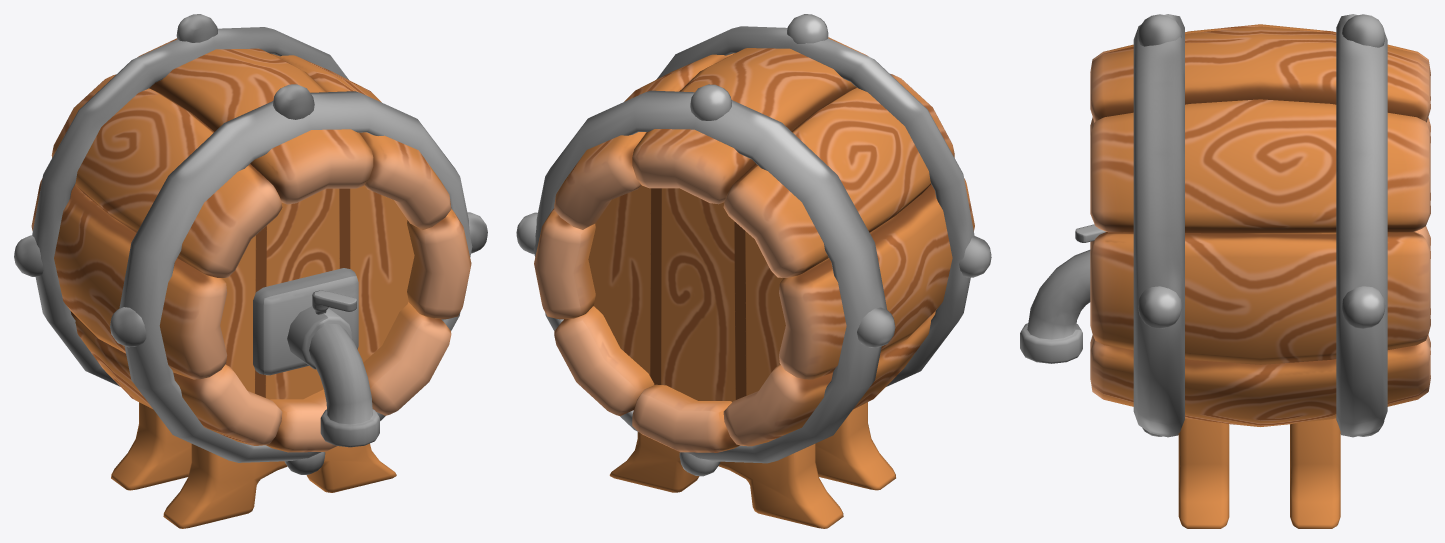
The model's file is beer barrel.fbx.
3 renders of one model, left to right at view 1: azimuth 30°, elevation 25°; view 2: azimuth 150°, elevation 25°; view 3: azimuth 270°, elevation 25°, orthographic. The views are drawn at different scales.
Visible parts, largest first — view 1: beer barrel; view 2: beer barrel; view 3: beer barrel.
Part boxes in pixels (box(x1,y1,x2,y2)): beer barrel: box(14, 14, 487, 528); beer barrel: box(516, 14, 991, 528); beer barrel: box(1020, 14, 1430, 528).
Size of the model in its own units: 95.71 by 105 by 86.33.
Materials: 1 (1 with a texture image).
